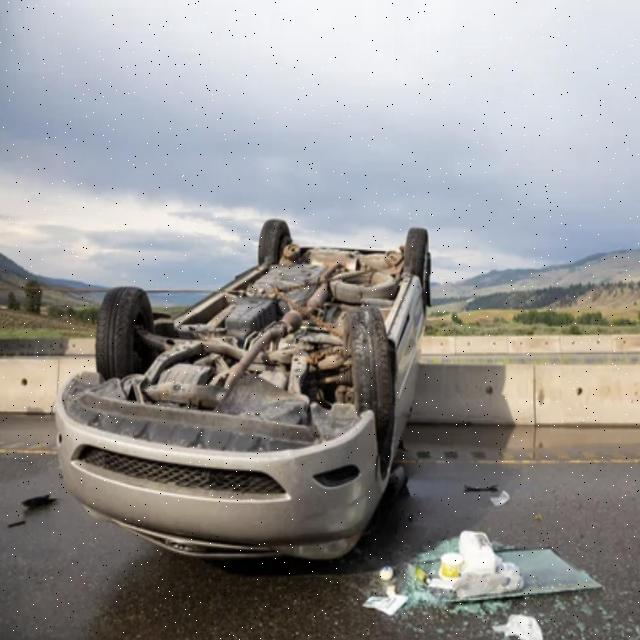severe: (50, 204, 437, 572)
